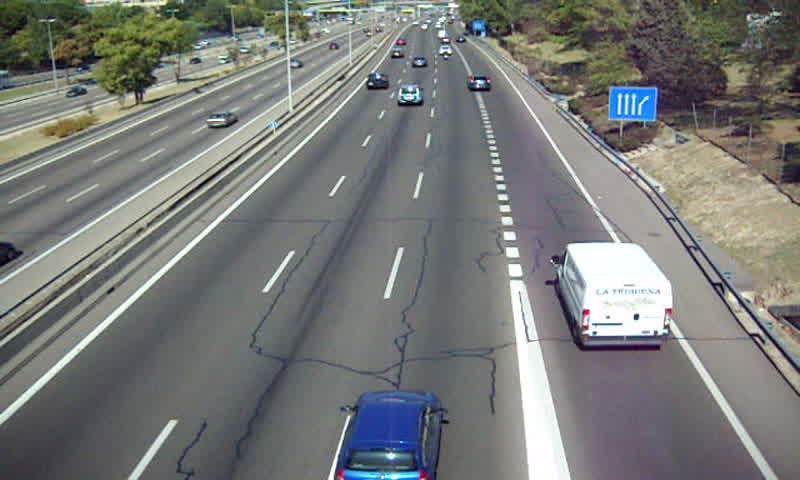car: (333, 390, 440, 480), (396, 86, 424, 108), (468, 76, 494, 93), (365, 73, 388, 91)
van: (551, 242, 673, 347)
